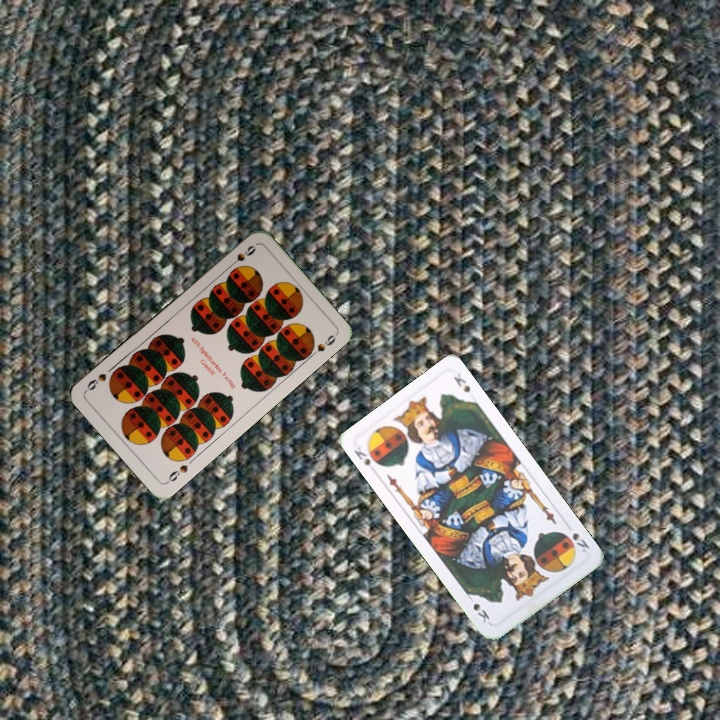S9: (225, 241, 259, 271), (162, 460, 190, 486)
SK: (562, 520, 592, 555), (350, 442, 383, 469)
